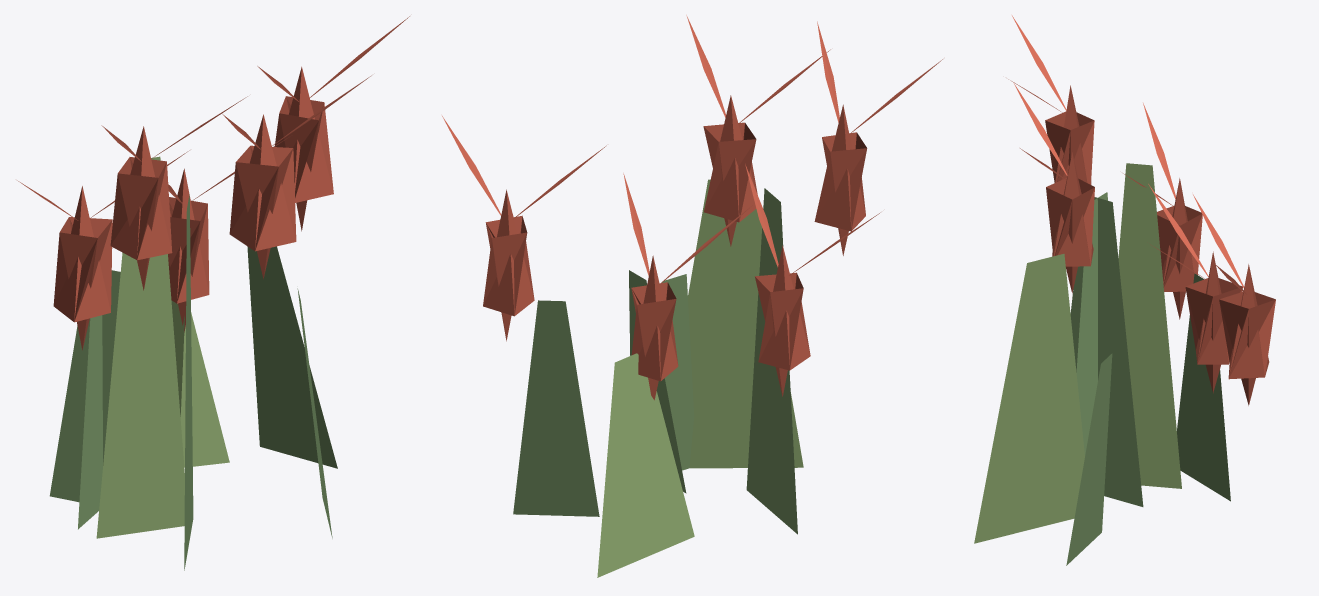
File: cao.yangmao@fruiting__spring.glb
3 views of the same model, side by side, from view 1: azimuth 30°, elevation 25°; view 2: azimuth 150°, elevation 25°; view 3: azimuth 270°, elevation 25° (orthographic). The views are drawn at different scales.
Parts seen in each view (by area): view 1: cao.yangmao@fruiting__spring; view 2: cao.yangmao@fruiting__spring; view 3: cao.yangmao@fruiting__spring.
Part boxes in pixels (x1,y1,x2,y2): cao.yangmao@fruiting__spring: [17, 16, 409, 570]; cao.yangmao@fruiting__spring: [442, 15, 942, 577]; cao.yangmao@fruiting__spring: [974, 15, 1275, 565].
Size of the model in its own units: 0.6944 by 0.7396 by 0.525.
